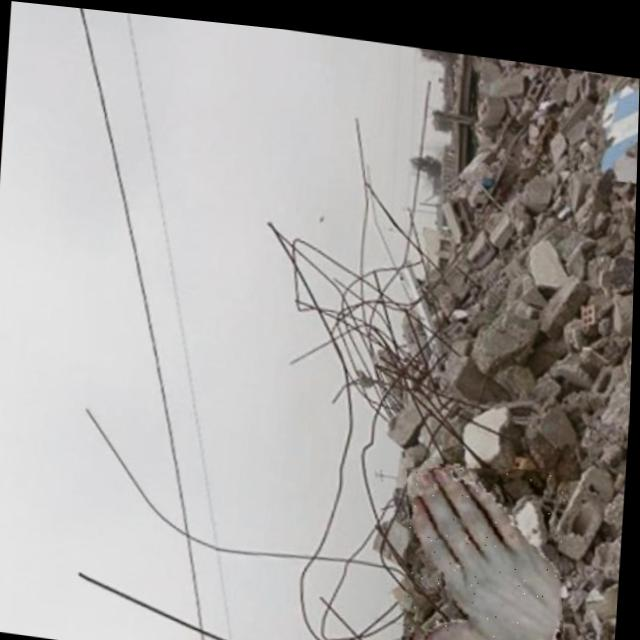Person in Rubble: (404, 443, 573, 640)
